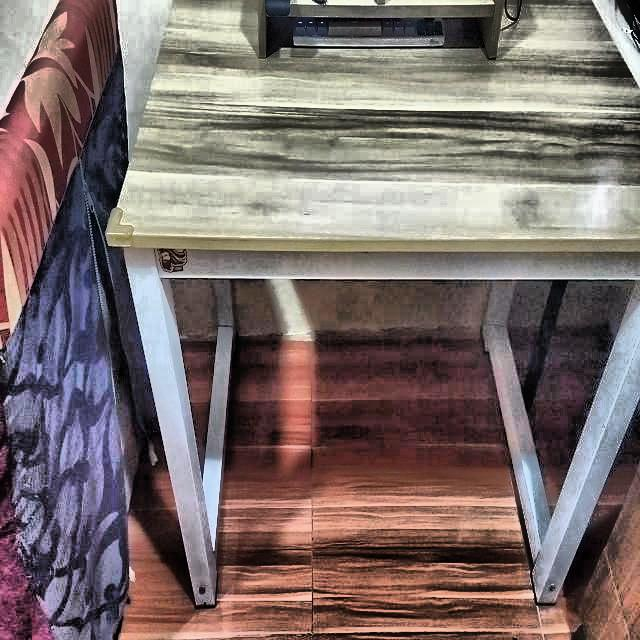mesa: (99, 0, 640, 608)
